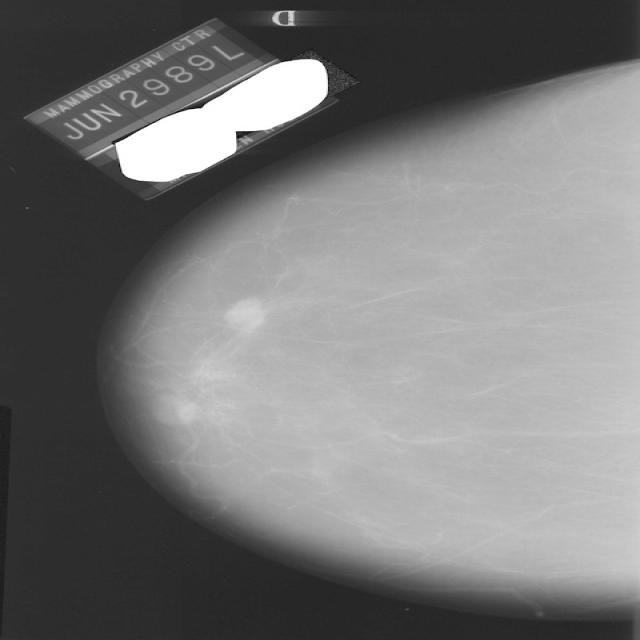tumour: (222, 298, 266, 330)
